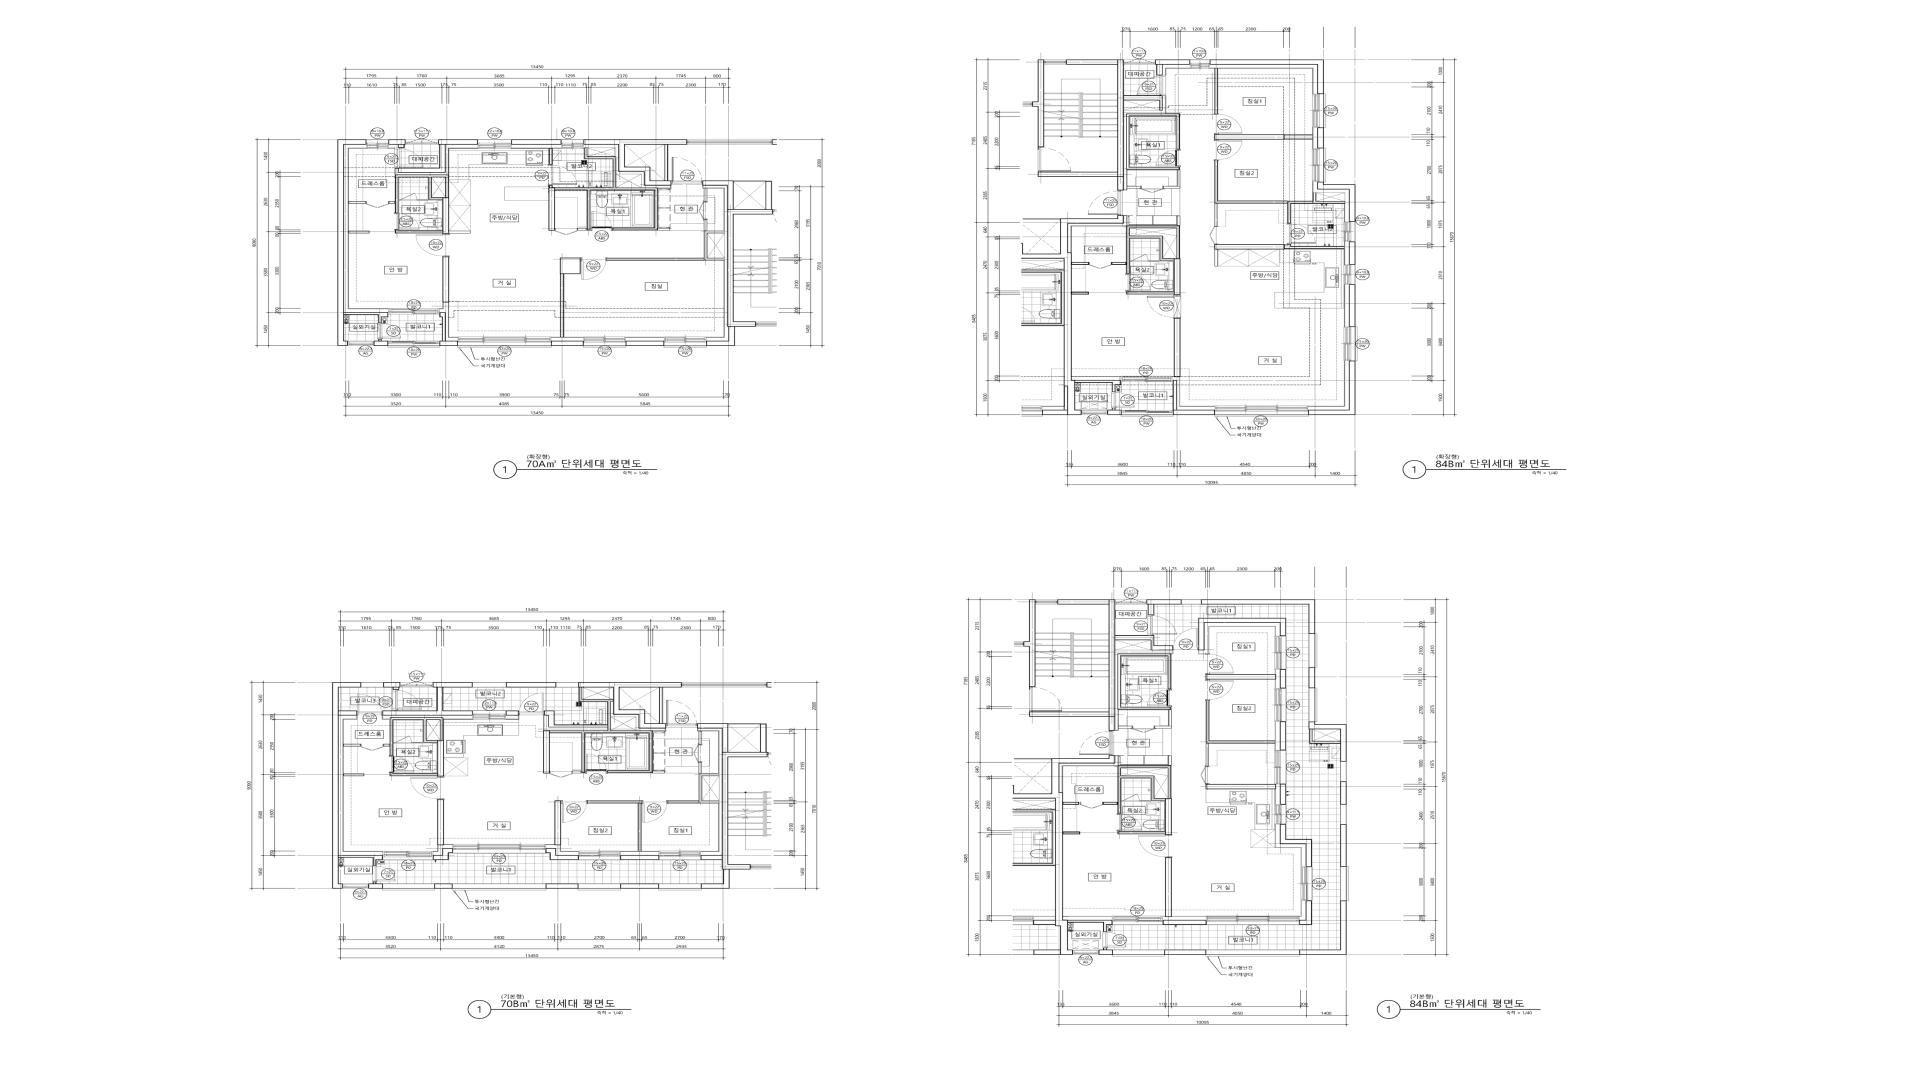door: (666, 700, 698, 728), (671, 157, 703, 183), (1088, 190, 1121, 215), (1029, 687, 1062, 712), (1080, 731, 1112, 756), (1038, 148, 1071, 171), (415, 233, 448, 257), (1147, 295, 1180, 319), (410, 777, 444, 799), (1138, 835, 1172, 857), (549, 165, 578, 186), (393, 690, 422, 711), (560, 800, 587, 823), (518, 692, 545, 715), (1172, 628, 1199, 650), (1288, 223, 1316, 244), (1215, 113, 1242, 135), (1215, 140, 1242, 161), (1205, 679, 1233, 700), (1137, 75, 1166, 95), (394, 148, 423, 167), (1147, 616, 1176, 636), (642, 800, 667, 823), (357, 694, 382, 716), (580, 258, 607, 280), (1205, 654, 1233, 674), (591, 211, 613, 231), (1156, 149, 1180, 167), (1118, 814, 1142, 832), (1126, 274, 1151, 291), (585, 754, 608, 773), (390, 756, 414, 773), (1147, 690, 1171, 707), (1102, 932, 1126, 948), (378, 323, 401, 339), (373, 866, 396, 882), (1112, 392, 1134, 407), (365, 202, 389, 208), (360, 744, 384, 750), (1141, 186, 1163, 193), (555, 228, 578, 235), (1080, 802, 1102, 808), (1133, 727, 1155, 733), (550, 771, 572, 778), (1089, 262, 1112, 269), (699, 202, 707, 220), (393, 736, 411, 744), (1201, 766, 1209, 785), (1121, 794, 1139, 802), (1209, 227, 1217, 244), (694, 745, 702, 762), (400, 193, 417, 200), (1130, 255, 1149, 261)
wall: (607, 186, 728, 342), (1029, 600, 1172, 731), (1038, 59, 1163, 190), (543, 682, 682, 774), (1060, 215, 1124, 415), (1055, 756, 1116, 955), (698, 724, 767, 889), (703, 181, 773, 345), (332, 682, 382, 889), (338, 140, 388, 345), (555, 145, 671, 231), (1215, 161, 1345, 223), (339, 716, 382, 856), (1102, 766, 1172, 835), (1112, 225, 1180, 295), (584, 140, 687, 186), (1205, 700, 1275, 766), (1116, 650, 1172, 731), (1124, 95, 1166, 190), (1209, 59, 1324, 94), (1201, 600, 1315, 634), (390, 717, 444, 777), (1211, 65, 1317, 94), (382, 682, 472, 716), (1126, 113, 1180, 170), (698, 729, 721, 856), (1117, 654, 1171, 709), (394, 140, 477, 175), (587, 800, 642, 852), (1199, 618, 1286, 650), (1199, 622, 1280, 654), (1308, 361, 1356, 415), (1300, 901, 1346, 955), (389, 175, 448, 214), (1068, 215, 1127, 253), (1059, 756, 1118, 793), (551, 274, 583, 342), (1308, 361, 1349, 410), (611, 702, 666, 731), (1308, 723, 1346, 762), (1317, 182, 1356, 222), (1172, 380, 1215, 415), (1312, 182, 1349, 222), (1172, 377, 1215, 410), (1280, 824, 1312, 866), (1275, 824, 1305, 866), (1033, 59, 1044, 148), (543, 715, 608, 731), (512, 145, 562, 165), (439, 302, 458, 342), (1215, 244, 1345, 249), (439, 313, 458, 345), (1029, 600, 1035, 687), (1146, 600, 1182, 616), (1155, 59, 1191, 75), (1215, 135, 1312, 140), (707, 233, 725, 258), (702, 777, 719, 800), (1166, 857, 1172, 916), (546, 848, 579, 860), (546, 844, 579, 856), (1174, 318, 1180, 377), (1205, 785, 1276, 790), (1205, 674, 1276, 679), (382, 716, 472, 720), (560, 257, 580, 274), (1299, 901, 1312, 926), (1163, 170, 1180, 189), (1155, 709, 1171, 729), (438, 799, 444, 845), (549, 186, 555, 231), (554, 800, 560, 845), (1163, 65, 1191, 75), (426, 720, 440, 740), (1340, 824, 1346, 866), (1349, 285, 1356, 327), (587, 148, 616, 157), (512, 140, 562, 145), (506, 682, 556, 687), (443, 257, 448, 302), (433, 848, 452, 860), (433, 844, 452, 856), (1163, 920, 1207, 926), (1344, 285, 1349, 327), (1164, 949, 1205, 955), (620, 851, 659, 856), (1063, 916, 1113, 920), (621, 884, 658, 889), (394, 229, 443, 233), (443, 198, 448, 233), (1215, 69, 1218, 113), (1163, 916, 1207, 920), (546, 884, 578, 889), (620, 856, 659, 860), (1349, 241, 1356, 265), (1275, 721, 1280, 750), (1280, 721, 1286, 750), (1340, 782, 1346, 804), (626, 338, 663, 342), (626, 342, 663, 345), (1308, 667, 1315, 688), (1317, 128, 1324, 149), (384, 682, 401, 690), (1299, 901, 1305, 920), (1072, 377, 1121, 380), (389, 140, 405, 148), (551, 342, 583, 345), (1344, 241, 1349, 265), (1312, 128, 1317, 149), (1108, 407, 1121, 415), (1275, 785, 1280, 804), (1280, 785, 1286, 804), (1275, 670, 1280, 688), (1280, 670, 1286, 688), (659, 687, 662, 724), (434, 884, 452, 889), (1098, 948, 1113, 955), (368, 882, 382, 889), (373, 339, 388, 345), (665, 145, 667, 181), (667, 800, 699, 803), (505, 711, 518, 716), (1215, 249, 1218, 266), (1215, 203, 1217, 227), (448, 231, 471, 233), (348, 231, 369, 233), (505, 716, 518, 720), (348, 202, 365, 204), (733, 181, 766, 182), (389, 145, 398, 149), (653, 770, 665, 773), (1168, 756, 1171, 766), (1178, 216, 1180, 225), (384, 744, 390, 746), (417, 199, 427, 200), (1139, 800, 1150, 802), (411, 742, 422, 744), (572, 771, 582, 773), (728, 724, 761, 724), (1149, 261, 1159, 261)
window: (458, 338, 551, 348), (1215, 406, 1308, 417), (452, 844, 546, 853), (1207, 916, 1299, 926), (1205, 949, 1300, 956), (452, 884, 546, 890), (1113, 916, 1163, 926), (583, 338, 626, 348), (663, 338, 707, 348), (1312, 94, 1325, 128), (1344, 327, 1357, 361), (1312, 149, 1325, 182), (382, 852, 433, 860), (579, 851, 620, 860), (659, 851, 700, 860), (1275, 636, 1286, 670), (1275, 750, 1286, 785), (1302, 866, 1312, 901), (1121, 410, 1174, 417), (1275, 688, 1286, 721), (382, 884, 435, 890), (388, 342, 440, 348), (1113, 949, 1164, 956), (472, 711, 506, 720), (477, 140, 512, 149), (1340, 866, 1349, 901), (1308, 688, 1317, 723), (1308, 634, 1317, 667), (658, 884, 702, 890), (578, 884, 621, 890), (388, 309, 439, 314), (1121, 377, 1172, 382), (1344, 222, 1356, 241), (1344, 265, 1356, 285), (405, 138, 438, 145), (1275, 804, 1286, 824), (1124, 58, 1155, 65), (367, 140, 389, 149), (562, 140, 584, 149), (1191, 59, 1211, 69), (472, 682, 506, 687), (400, 682, 433, 687), (1116, 599, 1146, 604), (1081, 410, 1108, 415), (343, 884, 368, 889), (1340, 804, 1346, 824), (1340, 762, 1346, 782), (556, 682, 579, 687), (361, 682, 384, 687), (1044, 59, 1067, 65), (348, 342, 373, 345), (1073, 951, 1098, 955), (1035, 600, 1058, 604), (1182, 600, 1201, 604)
